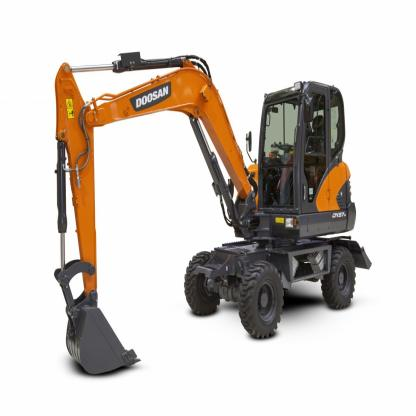excavator: (43, 35, 375, 378)
